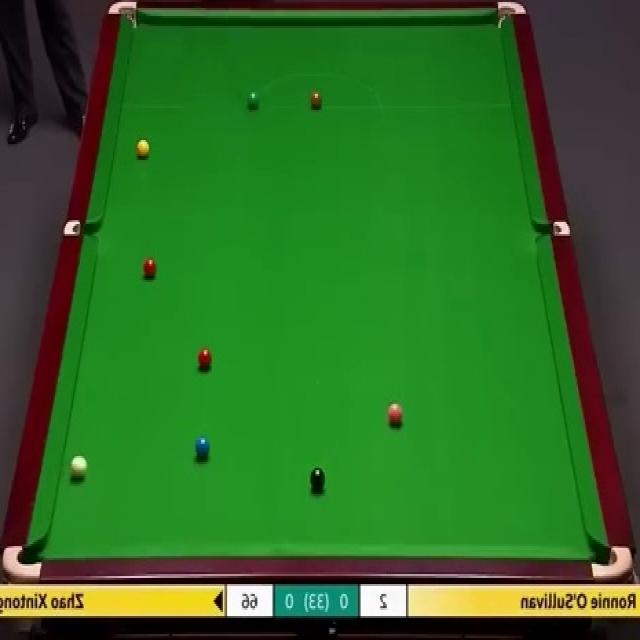pocket: (0, 542, 43, 584), (591, 545, 633, 580), (490, 2, 524, 36), (108, 0, 138, 32), (64, 218, 100, 237), (535, 220, 573, 235)
